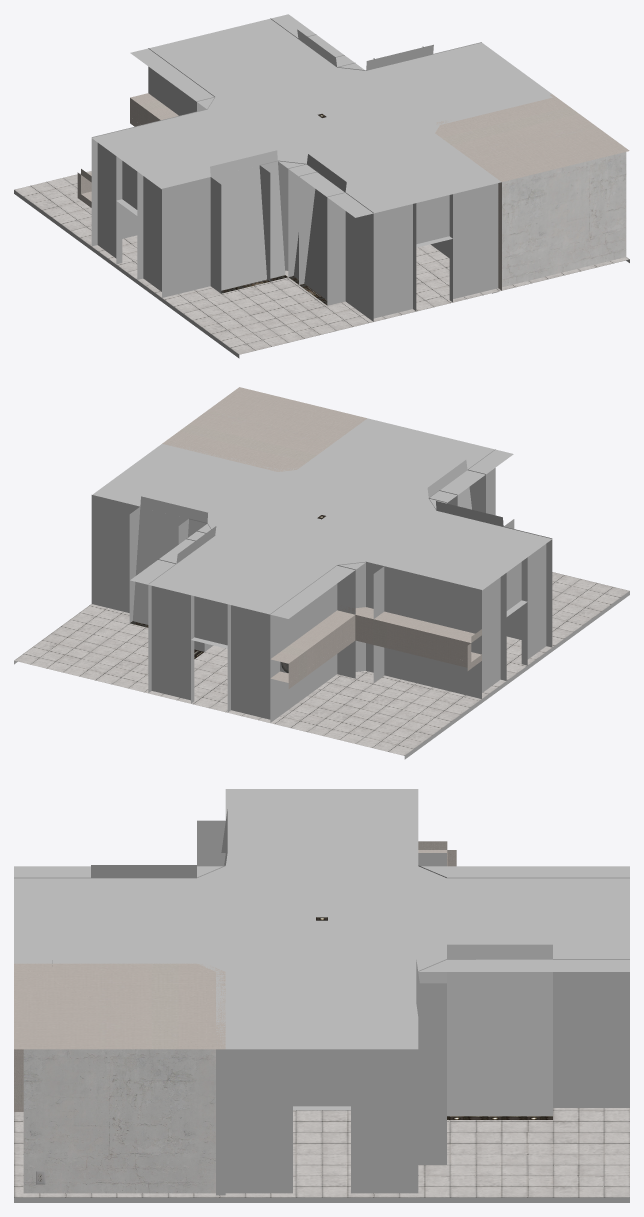
File: scp_room_4way.dae
3 renders of one model, top to bottom at view 1: azimuth 30°, elevation 25°; view 2: azimuth 150°, elevation 25°; view 3: azimuth 270°, elevation 25°, orthographic. The views are drawn at different scales.
Parts seen in each view (by area): view 1: default.013, default.010, default.014, default.012, default.009, default.011; view 2: default.013, default.010, default.014, default.009, default.011; view 3: default.013, default.010, default.012, default.014, default.009, default.011.
Part boxes in pixels (left/top/right/bottom): default.013: left=14, top=14, right=629, bottom=358; default.010: left=91, top=18, right=552, bottom=321; default.014: left=14, top=171, right=629, bottom=354; default.012: left=502, top=152, right=626, bottom=287; default.009: left=435, top=94, right=629, bottom=181; default.011: left=77, top=93, right=501, bottom=290; default.013: left=14, top=418, right=629, bottom=759; default.010: left=91, top=421, right=552, bottom=722; default.014: left=14, top=572, right=629, bottom=755; default.009: left=162, top=387, right=366, bottom=471; default.011: left=270, top=605, right=481, bottom=688; default.013: left=14, top=789, right=629, bottom=1202; default.010: left=14, top=809, right=629, bottom=1195; default.012: left=23, top=1049, right=215, bottom=1193; default.014: left=14, top=1108, right=629, bottom=1197; default.009: left=14, top=963, right=225, bottom=1049; default.011: left=14, top=841, right=456, bottom=1111.
Size of the model in its own units: 20.48 by 20.48 by 6.16.
